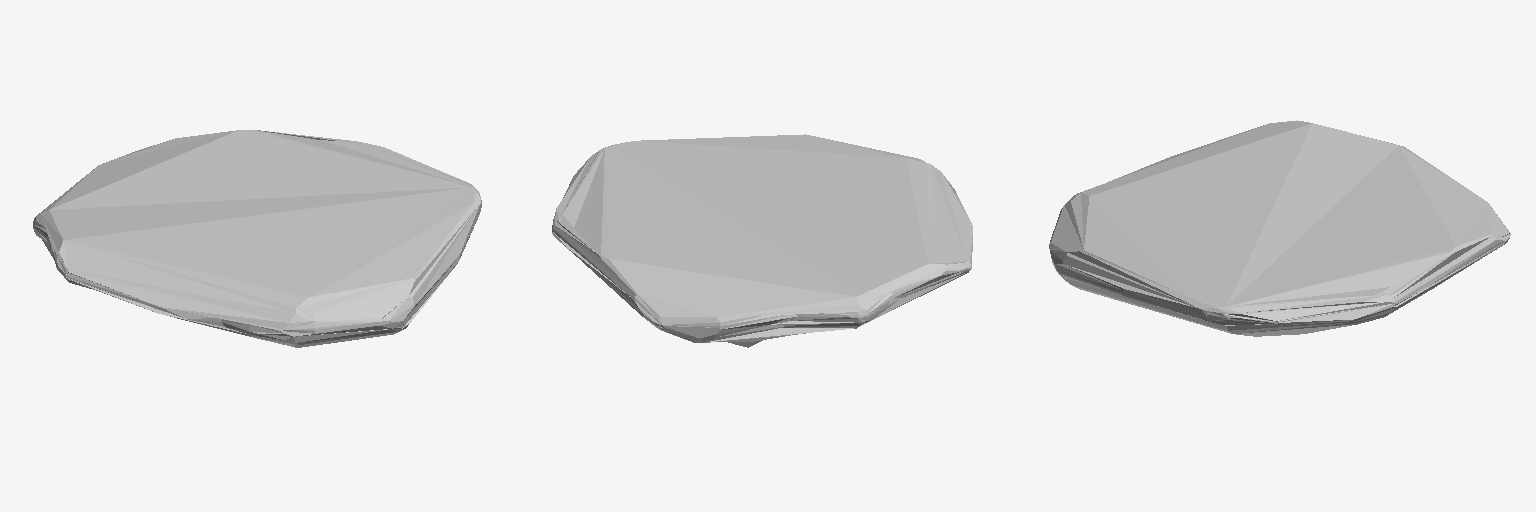
The model's file is floatyboi5.obj.
The picture shows the model from 3 angles: view 1: azimuth 30°, elevation 25°; view 2: azimuth 150°, elevation 25°; view 3: azimuth 270°, elevation 25°; orthographic projection.
Visible parts, largest first — view 1: Cube.001; view 2: Cube.001; view 3: Cube.001.
Boxes of the visible parts, x1,y1,x2,y2 form: Cube.001: [33, 130, 481, 347]; Cube.001: [552, 134, 972, 347]; Cube.001: [1049, 120, 1510, 336].
Bounding box in the file's own units: 2.68 × 0.6091 × 2.71.